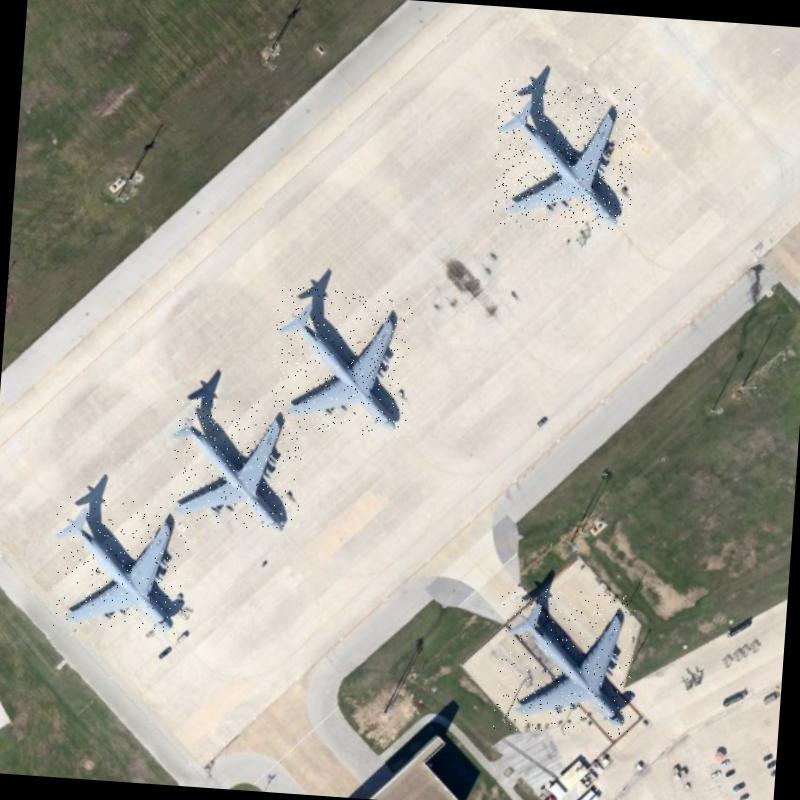A4: (489, 78, 638, 233), (268, 284, 415, 438), (492, 586, 639, 738), (48, 494, 196, 634), (168, 394, 306, 532)
